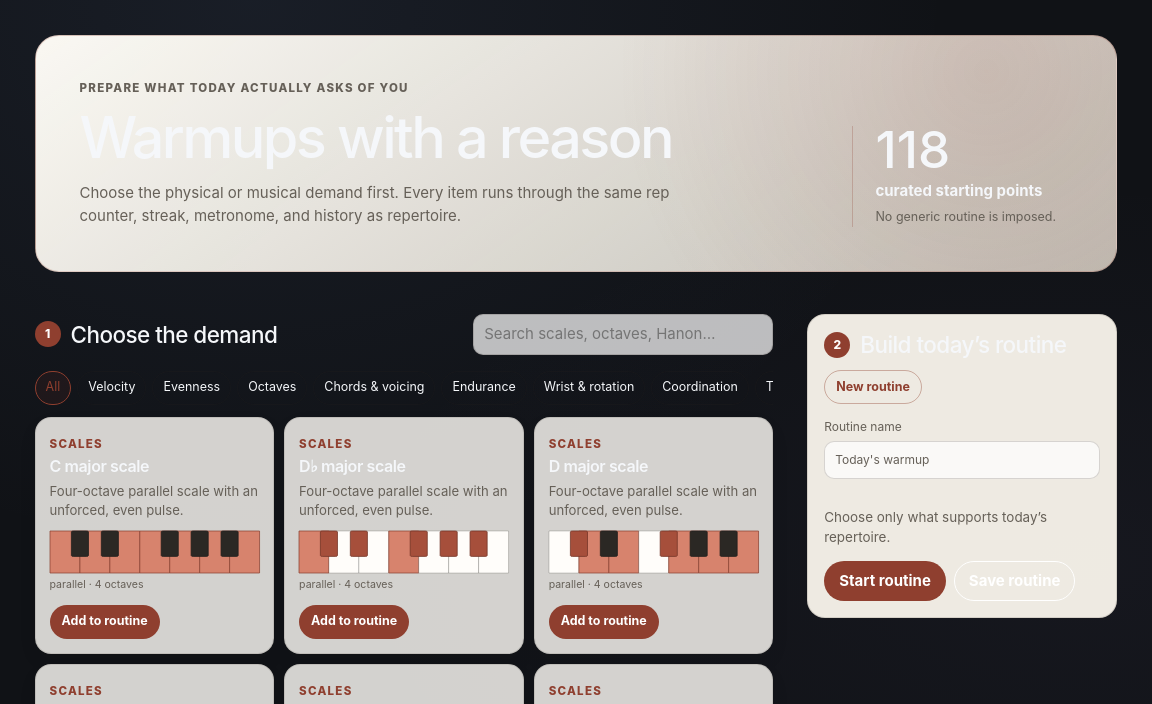
Test case: WarmupsWorkspace › filters by demand and adds a configured item to today's routine
Click the button "Octaves". click: (272, 388)
box: [237,370,307,404]
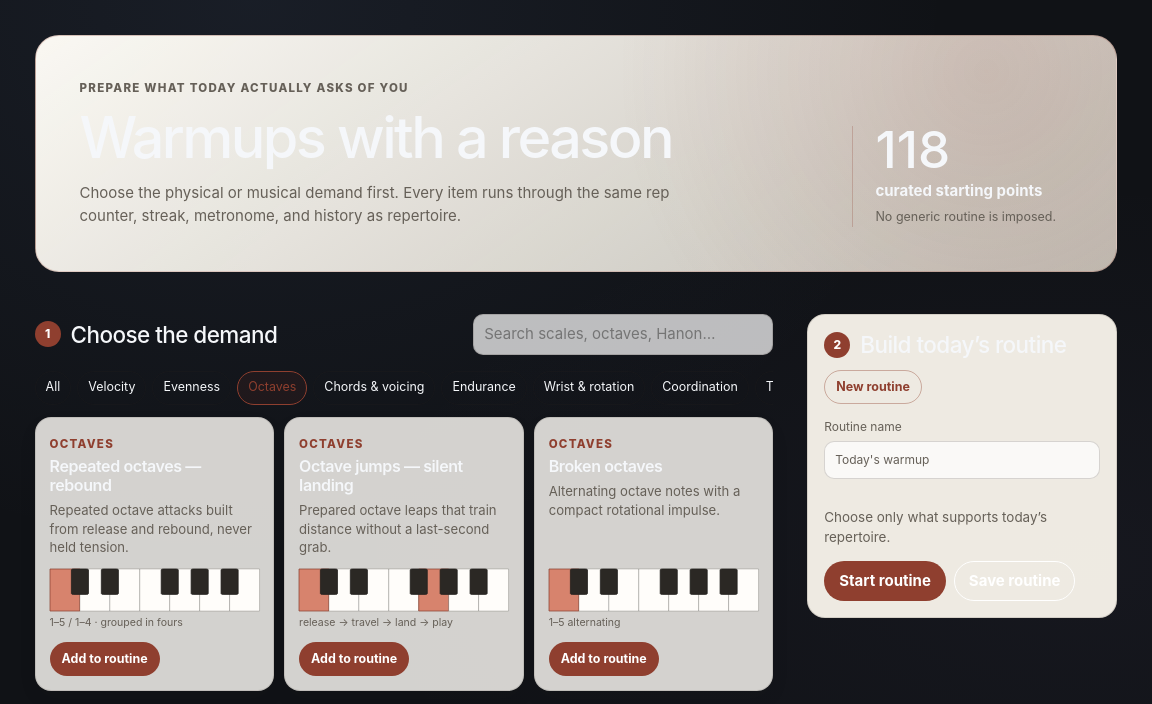
Expected: the heading "Octave jumps — silent landing" is shown, [299,456,463,495]
Click the button "Add to routine" below "release → travel → land → play". click: (354, 659)
box: [299,642,409,676]
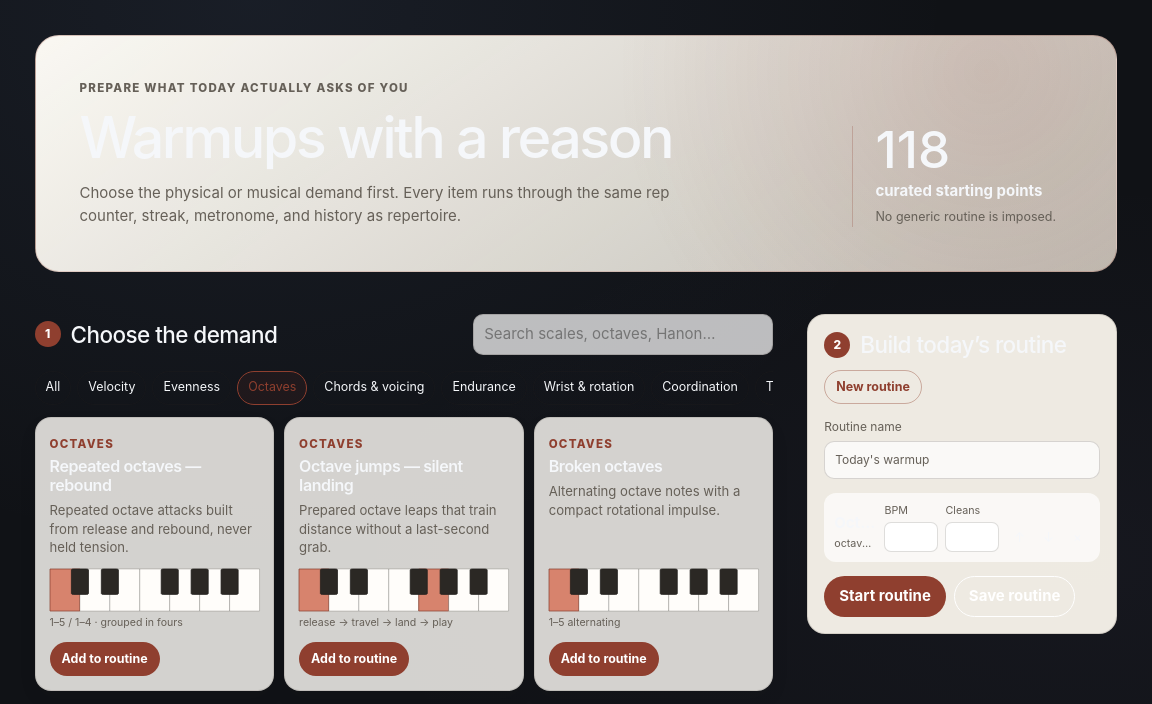
Expected: the button "Start routine" is enabled, [824,576,946,617]
